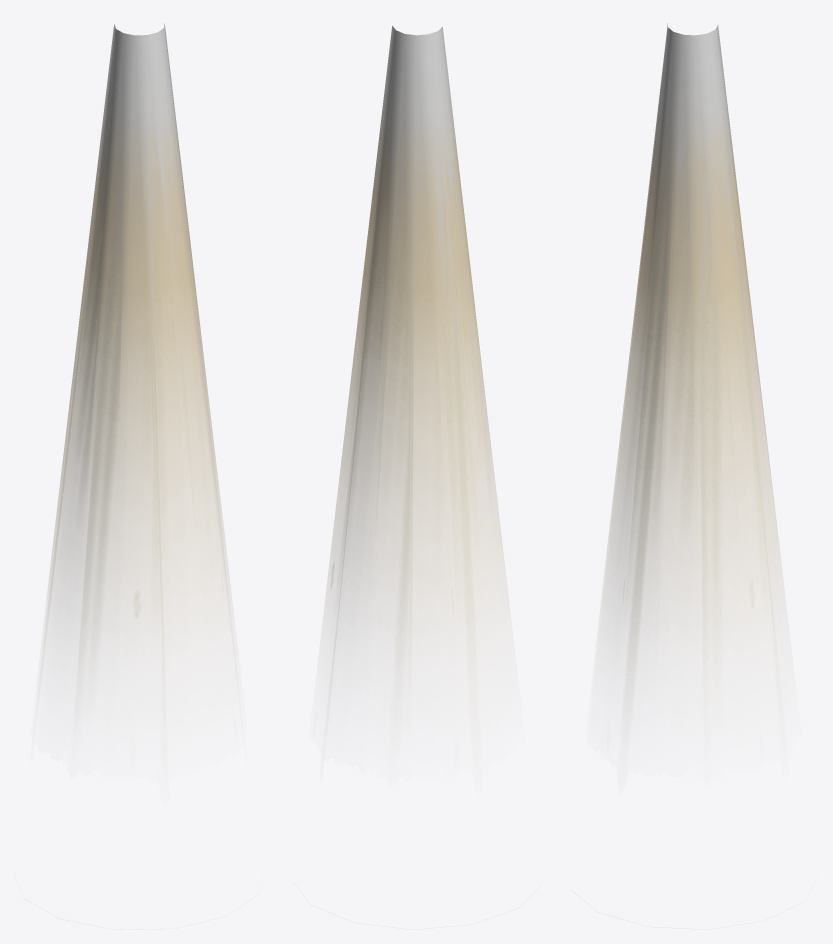
File: light.glb
3 views of the same model, side by side, from view 1: azimuth 30°, elevation 25°; view 2: azimuth 150°, elevation 25°; view 3: azimuth 270°, elevation 25° (orthographic).
Parts seen in each view (by area): view 1: light.png__; view 2: light.png__; view 3: light.png__.
Boxes of the visible parts, <box> form: light.png__: <box>41,23,236,708</box>; light.png__: <box>325,25,510,702</box>; light.png__: <box>602,23,784,701</box>.
Size of the model in its own units: 1.99 by 7.47 by 1.97.
Materials: 1 (1 with a texture image).
